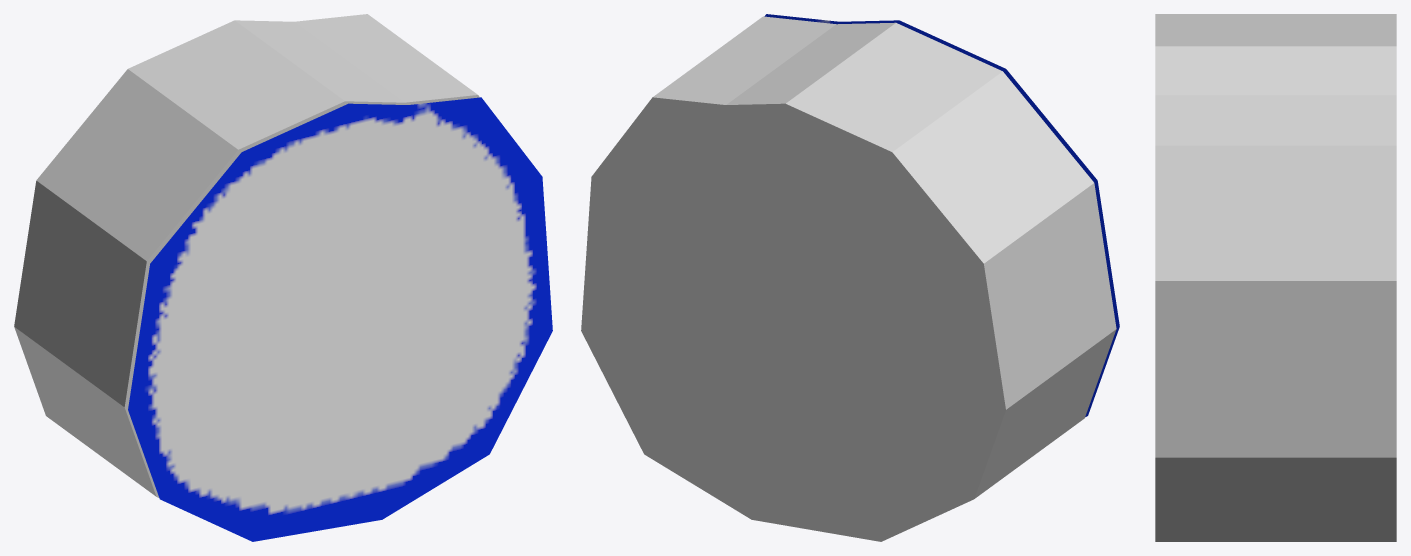
3 renders of one model, left to right at view 1: azimuth 30°, elevation 25°; view 2: azimuth 150°, elevation 25°; view 3: azimuth 270°, elevation 25°, orthographic. The views are drawn at different scales.
Parts seen in each view (by area): view 1: In_3_1, In_3_0; view 2: In_3_0, In_3_1; view 3: In_3_0.
Boxes of the visible parts, bbox=[...] form: In_3_1: bbox=[128, 97, 552, 541]; In_3_0: bbox=[14, 14, 479, 497]; In_3_0: bbox=[581, 16, 1116, 541]; In_3_1: bbox=[764, 14, 1119, 417]; In_3_0: bbox=[1155, 14, 1396, 541].
Bounding box in the file's own units: 1.11 × 1.06 × 0.515.
2 materials, 1 textured.
